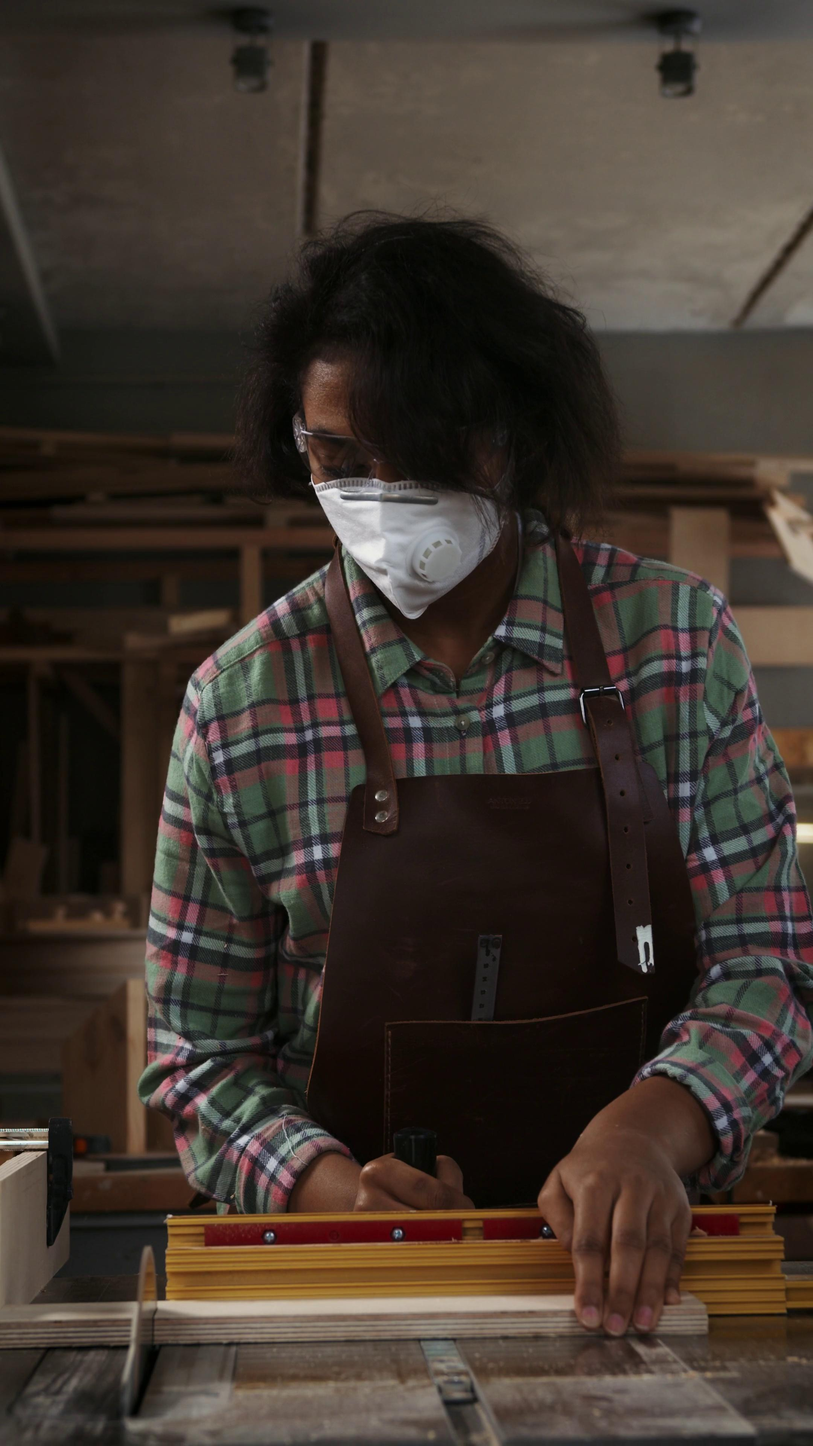mask: (311, 478, 505, 621)
person: (131, 197, 813, 1338)
